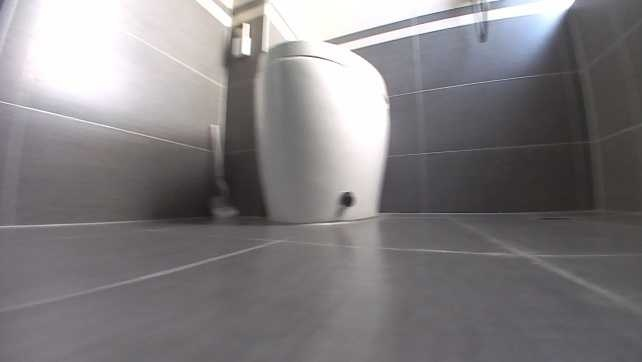toilet: (247, 37, 396, 225)
